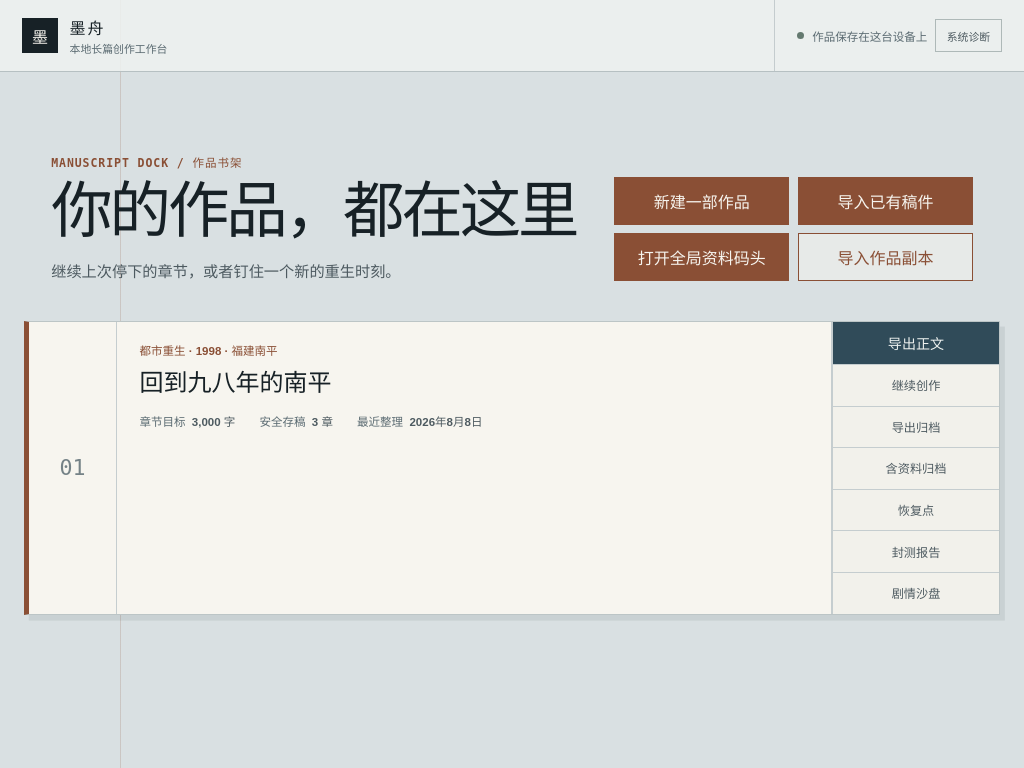
Test: App › explicitly exports a full archive with linked reference assets
What coordinates should you click on to do the following:
click the button "含资料归档"
I would click on:
 (916, 468)
Its box is top-left (832, 447), bottom-right (999, 489).
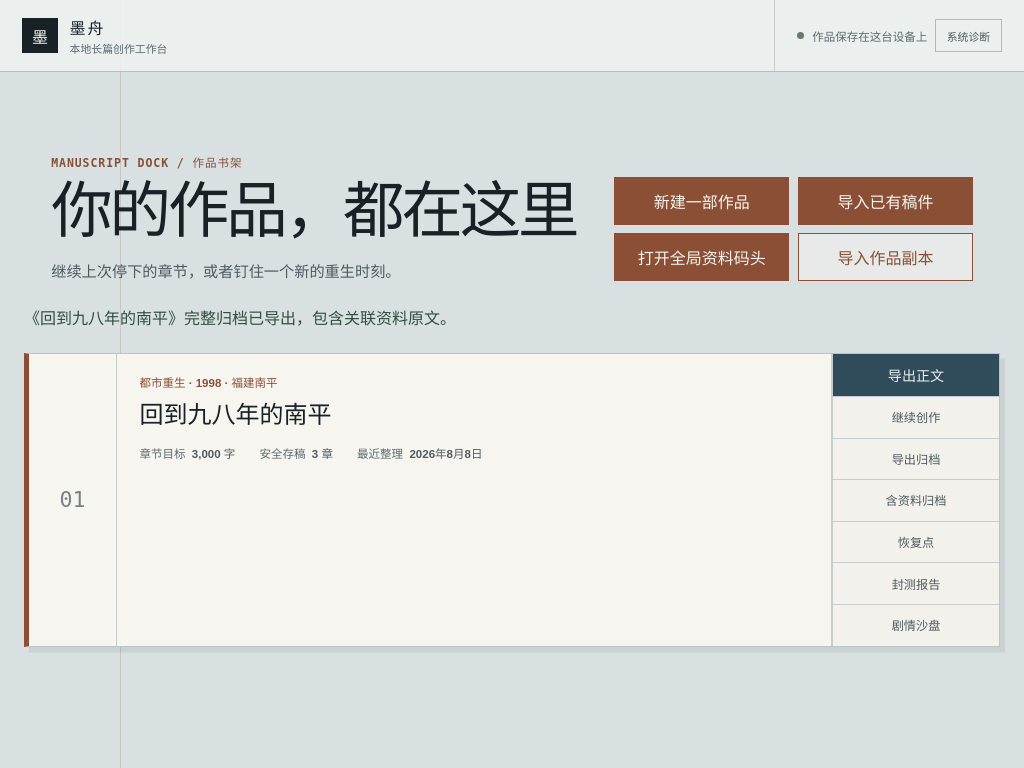
Result: the message shows "包含关联资料原文" at top-left (24, 310), bottom-right (456, 327)
